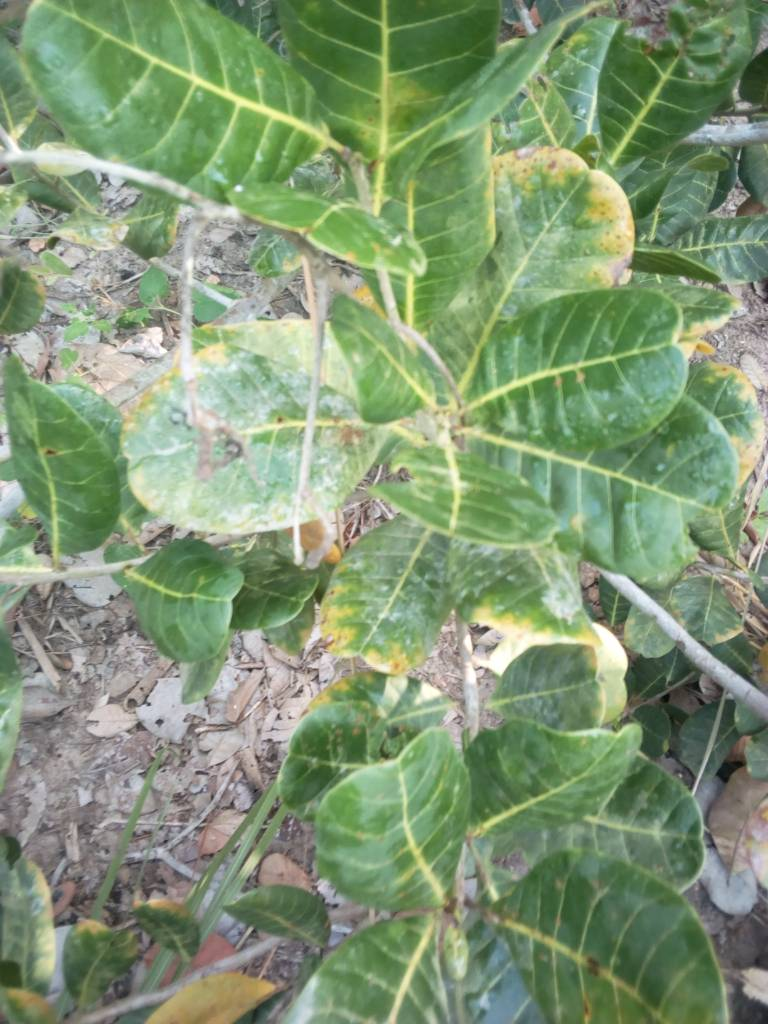Anthracnose: (491, 146, 638, 286), (315, 539, 430, 675)
